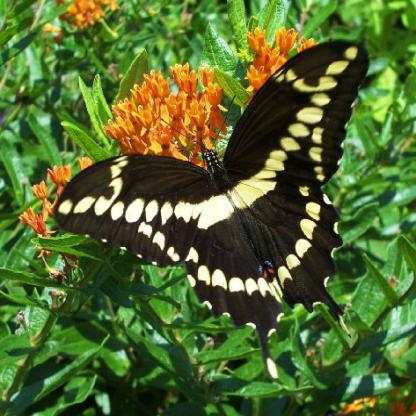Giant Swallowtail: (40, 29, 400, 363)
